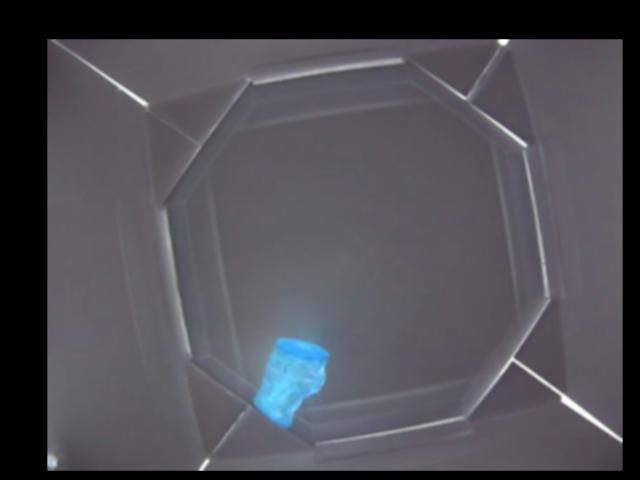Carrot: (254, 341, 326, 423)
